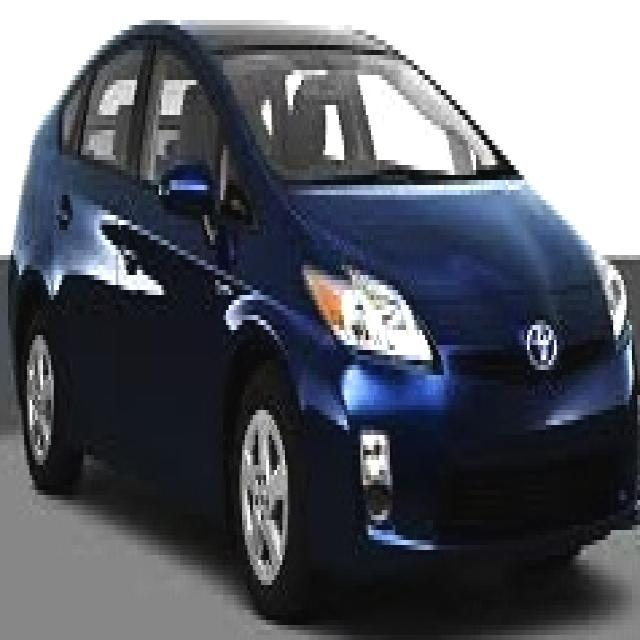blue: (8, 19, 637, 596)
